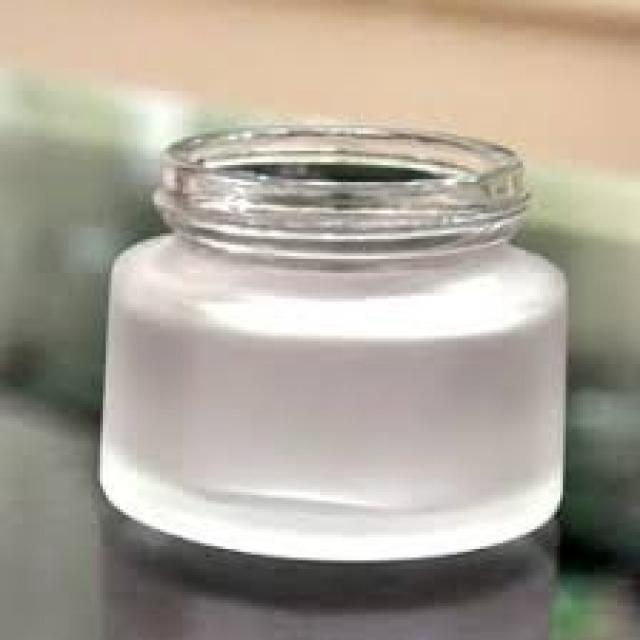glass: (97, 123, 563, 558)
